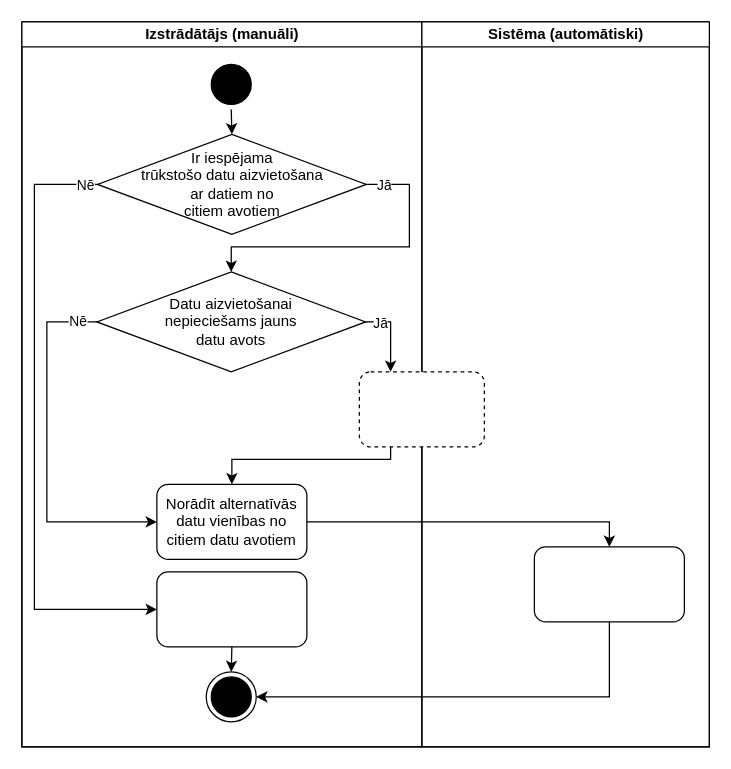
This 731x769 diagram has some shape labels left out. The centre of each missing label's shape, as x and y in pixels:
Datu avota pievienošana: the point at 421,409
Mainīt ELT procesus kārtēšanas metadatos: the point at 231,609
Uzstādīt alternatīvās datu vienības: the point at 608,584
